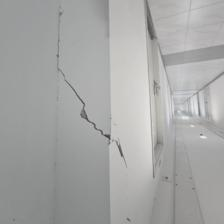Medium: (59, 64, 143, 169)
